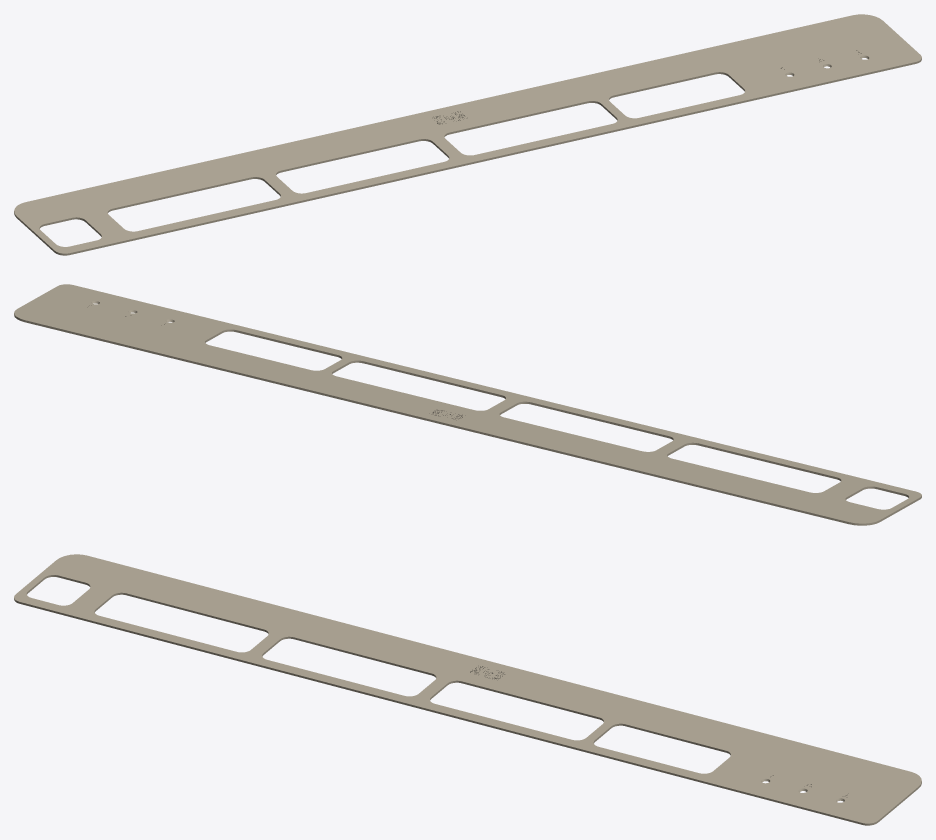
File: original-33.obj
The picture shows the model from 3 angles, top to bottom: view 1: azimuth 30°, elevation 25°; view 2: azimuth 150°, elevation 25°; view 3: azimuth 330°, elevation 25°; orthographic projection.
Visible parts, largest first — view 1: Difference1/mesh104/mesh104-geometry#mesh104-geometry; view 2: Difference1/mesh104/mesh104-geometry#mesh104-geometry; view 3: Difference1/mesh104/mesh104-geometry#mesh104-geometry.
Part boxes in pixels (left/top/right/bottom): Difference1/mesh104/mesh104-geometry#mesh104-geometry: left=14, top=14, right=921, bottom=255; Difference1/mesh104/mesh104-geometry#mesh104-geometry: left=14, top=284, right=921, bottom=525; Difference1/mesh104/mesh104-geometry#mesh104-geometry: left=14, top=554, right=921, bottom=825.
Size of the model in its own units: 0.9767 by 0.0185 by 0.1256.
